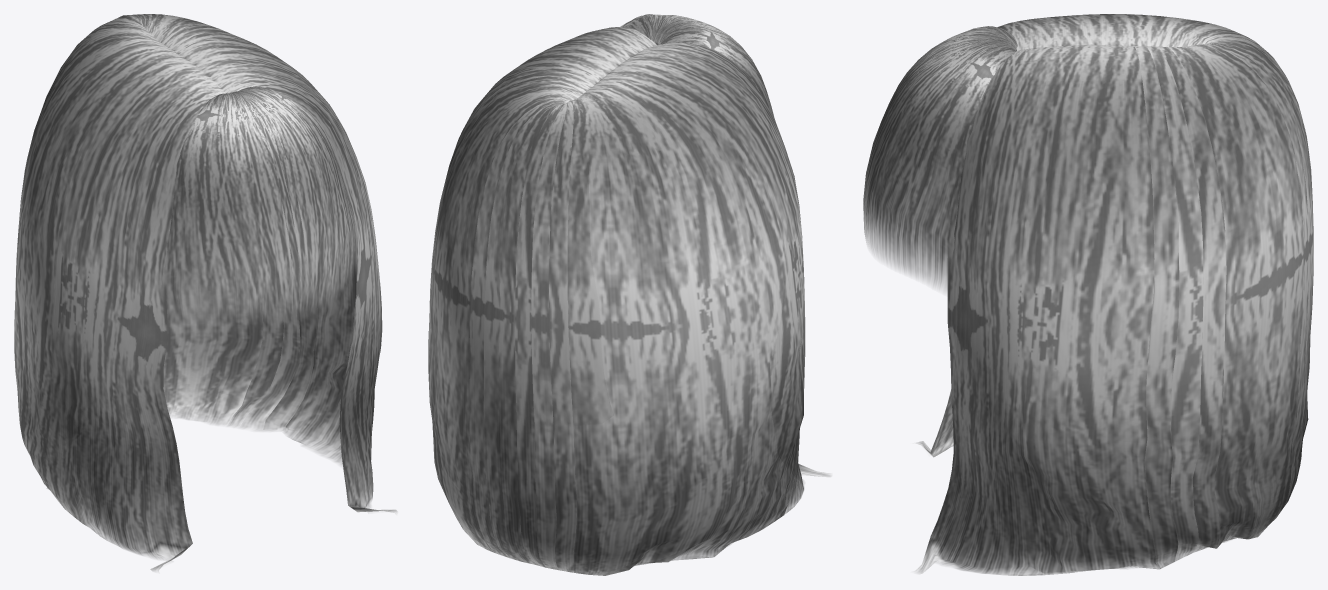
Rendered from daz_hair_blunt_bob_bangs.glb.
3 renders of one model, left to right at view 1: azimuth 30°, elevation 25°; view 2: azimuth 150°, elevation 25°; view 3: azimuth 270°, elevation 25°, orthographic. The views are drawn at different scales.
Parts seen in each view (by area): view 1: daz_hair_blunt_bob_bangs; view 2: daz_hair_blunt_bob_bangs; view 3: daz_hair_blunt_bob_bangs.
Part boxes in pixels (x1=…): daz_hair_blunt_bob_bangs: x1=14, y1=14, x2=397, y2=572; daz_hair_blunt_bob_bangs: x1=428, y1=14, x2=831, y2=575; daz_hair_blunt_bob_bangs: x1=863, y1=14, x2=1313, y2=575.
Size of the model in its own units: 0.1892 by 0.2428 by 0.2105.
1 material, 1 textured.
